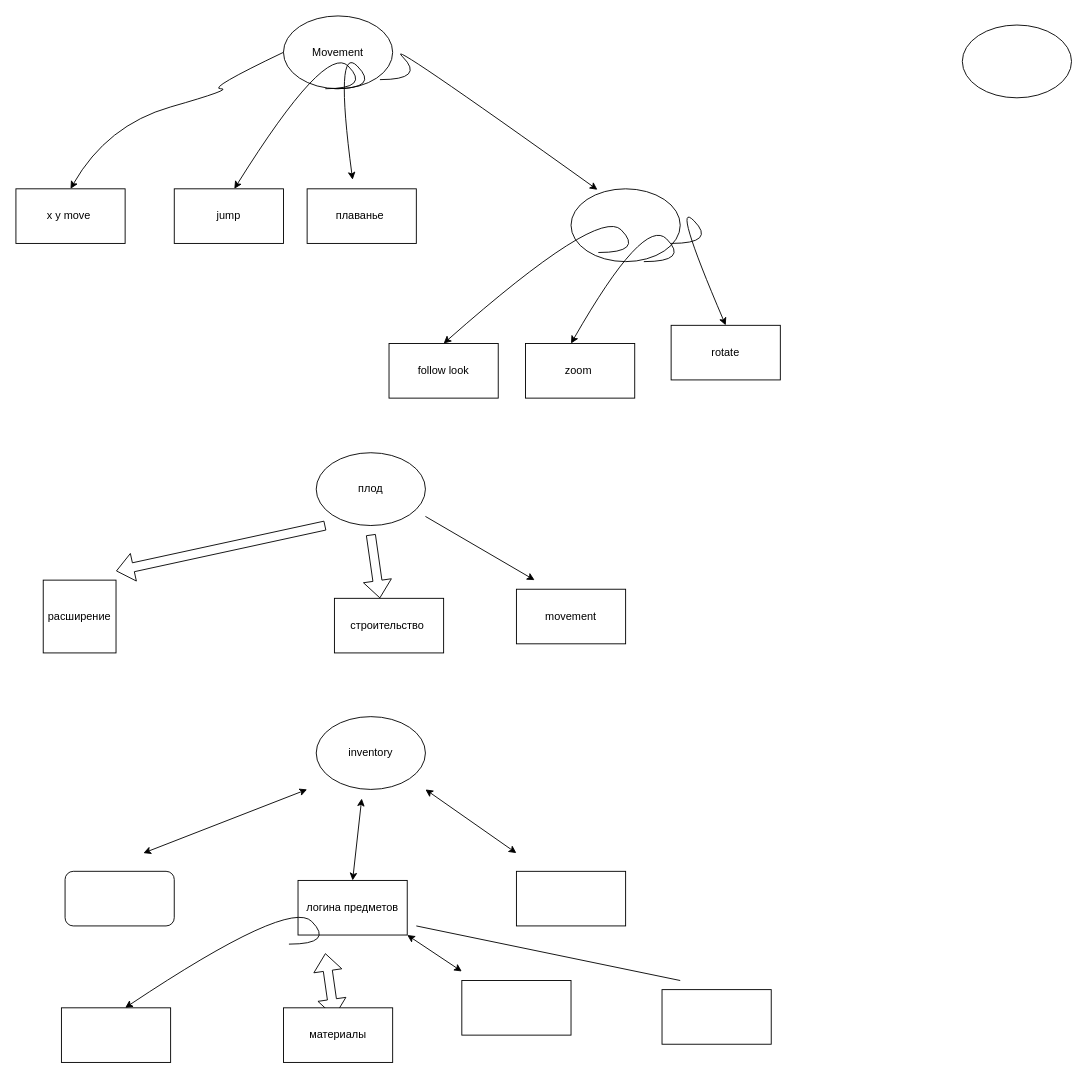
Image size: 1087x1078. Some labels were removed from this diagram. Here are the shapes that lost their labels. From the top down, the box of each, then its label:
(961, 24, 1072, 98): хп воздух стамина и жажда и голод
(570, 188, 680, 262): camera move
(64, 870, 174, 926): логика
(516, 870, 626, 926): крафт
(461, 980, 571, 1035): инструменты
(661, 989, 771, 1044): декор
(61, 1007, 171, 1062): еда
